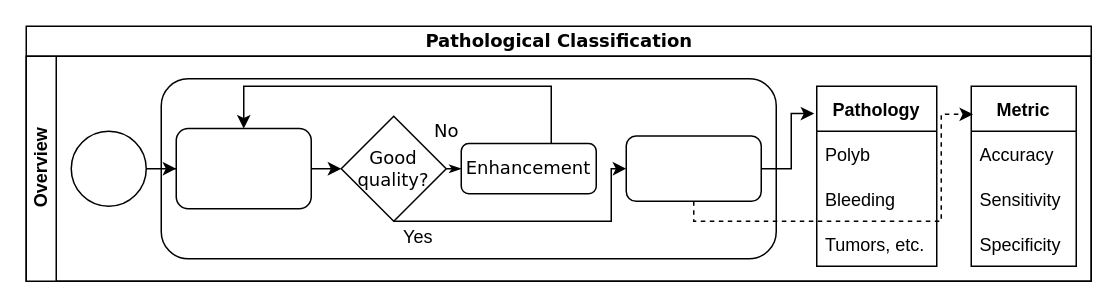
This 1118x308 diagram has some shape labels left out. The centre of each missing label's shape, as x and y in pixels:
"Image Quality Assessment" goes at point 243,168.
"Pathologies identification" goes at point 693,168.
"WCE image" goes at point 108,168.
